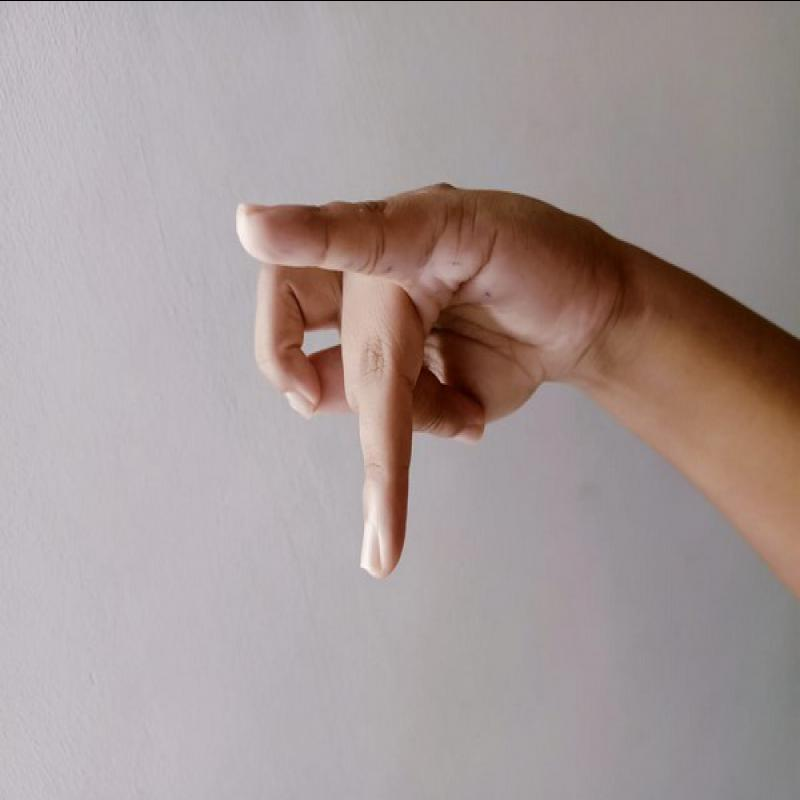Katakam: (226, 169, 622, 608)
